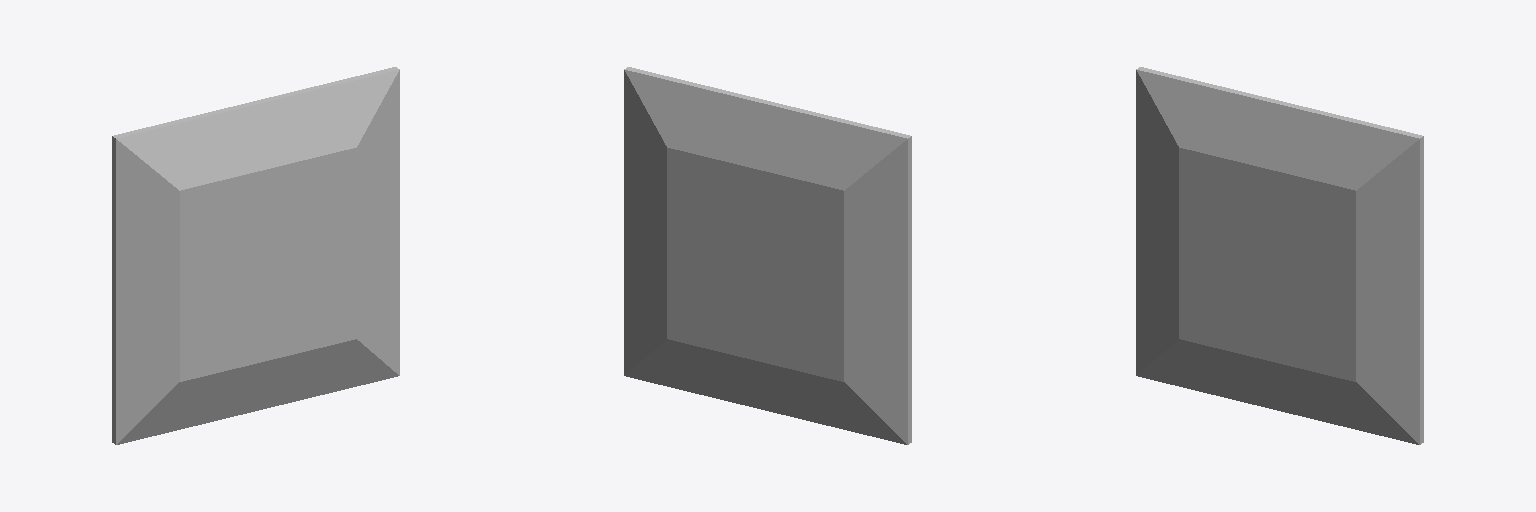
File: breadCollision.obj
3 views of the same model, side by side, from view 1: azimuth 30°, elevation 25°; view 2: azimuth 150°, elevation 25°; view 3: azimuth 330°, elevation 25° (orthographic).
Parts seen in each view (by area): view 1: BurgerPrism; view 2: BurgerPrism; view 3: BurgerPrism.
Boxes of the visible parts, <box> form: BurgerPrism: <box>112,67,399,444</box>; BurgerPrism: <box>624,67,911,444</box>; BurgerPrism: <box>1136,67,1423,444</box>.
Bounding box in the file's own units: 0.137 × 0.1415 × 0.0204.